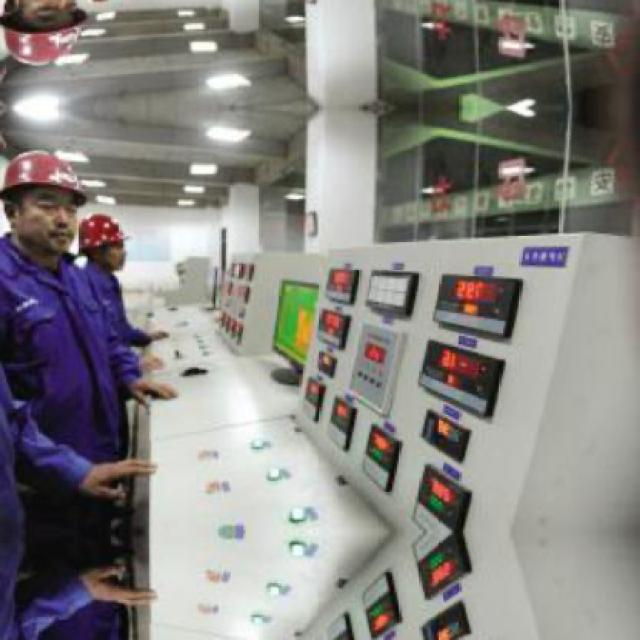con casco: (0, 130, 74, 275), (73, 195, 159, 287)
